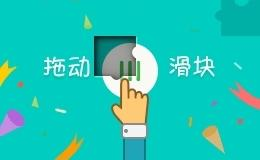target: (73, 16, 115, 56)
